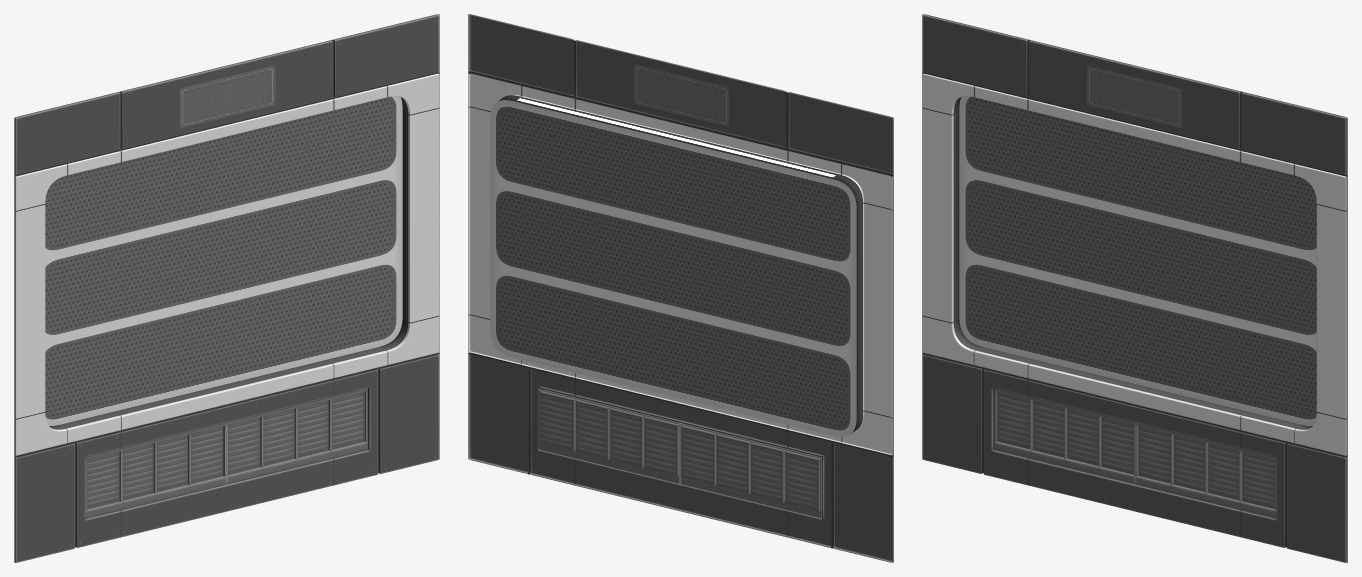
File: MWall12-350x350-2.FBX
3 views of the same model, side by side, from view 1: azimuth 30°, elevation 25°; view 2: azimuth 150°, elevation 25°; view 3: azimuth 330°, elevation 25° (orthographic).
Visible parts, largest first — view 1: MWall12-350x350-2; view 2: MWall12-350x350-2; view 3: MWall12-350x350-2.
Boxes of the visible parts, x1,y1,x2,y2 form: MWall12-350x350-2: (14, 14, 439, 562); MWall12-350x350-2: (468, 14, 893, 562); MWall12-350x350-2: (922, 14, 1347, 562).
Size of what is drawn, in the model's own units: 3.5 by 3.5 by 0.1203.
